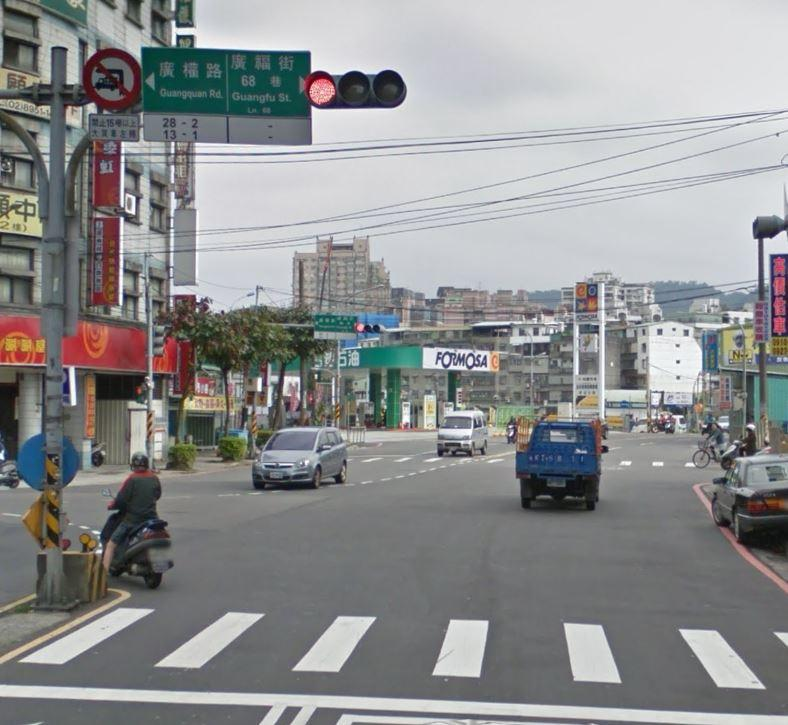red_traffic_light: (302, 69, 406, 108)
